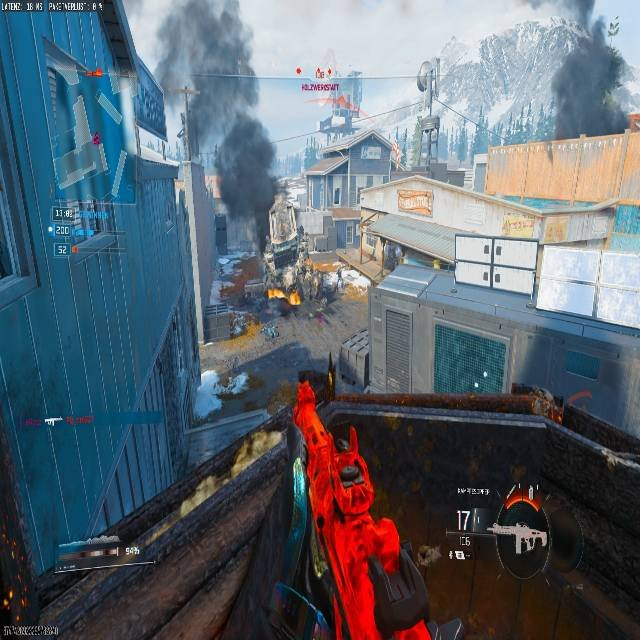head: (297, 225, 304, 232)
player: (295, 225, 309, 264)
